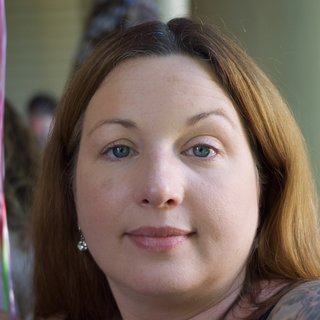eye: (174, 135, 225, 164), (95, 136, 143, 162)
